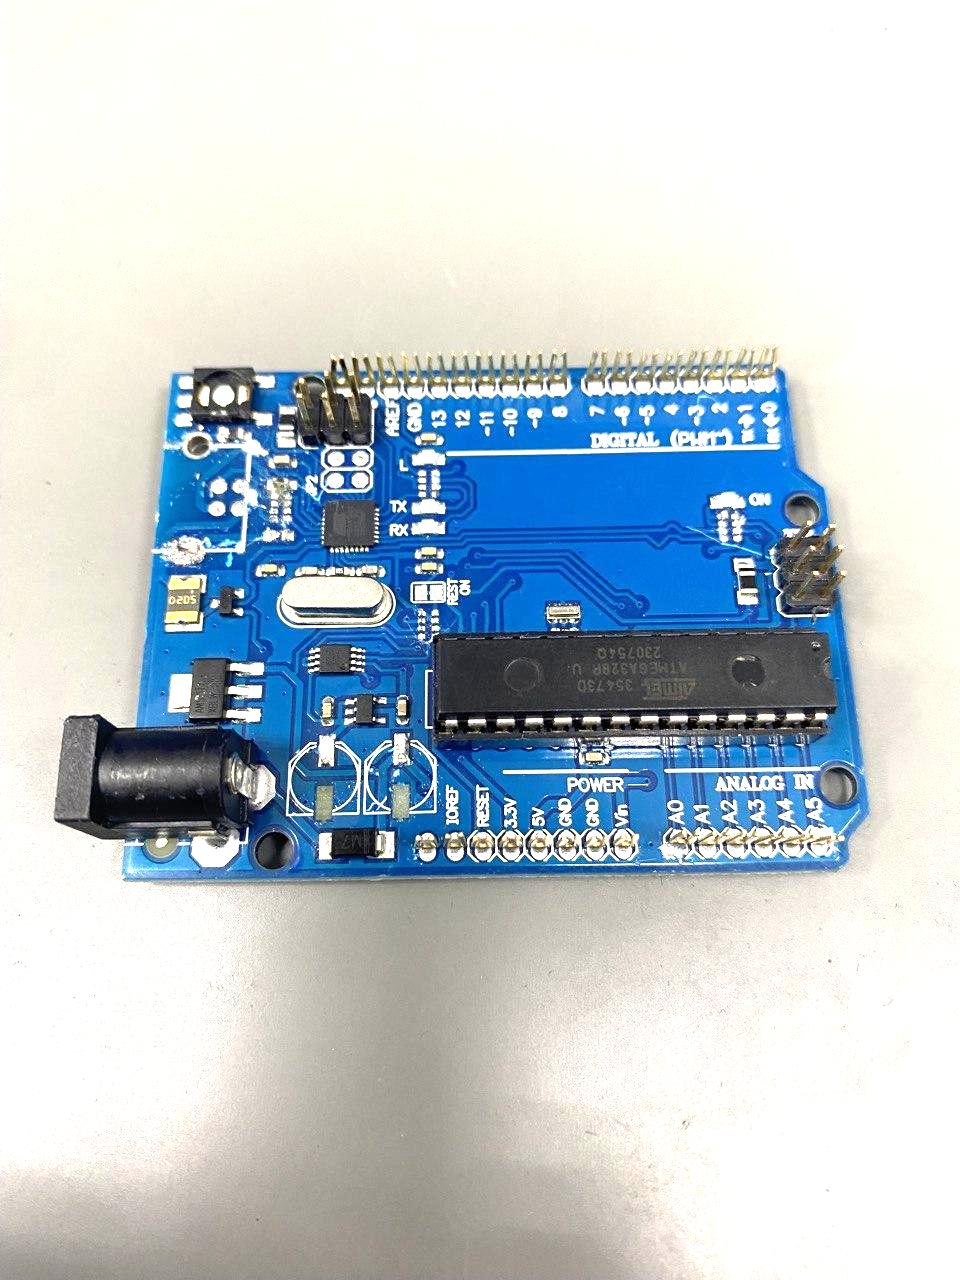ATmega328 chip: (430, 629, 838, 750)
Arduino board: (53, 345, 870, 881)
